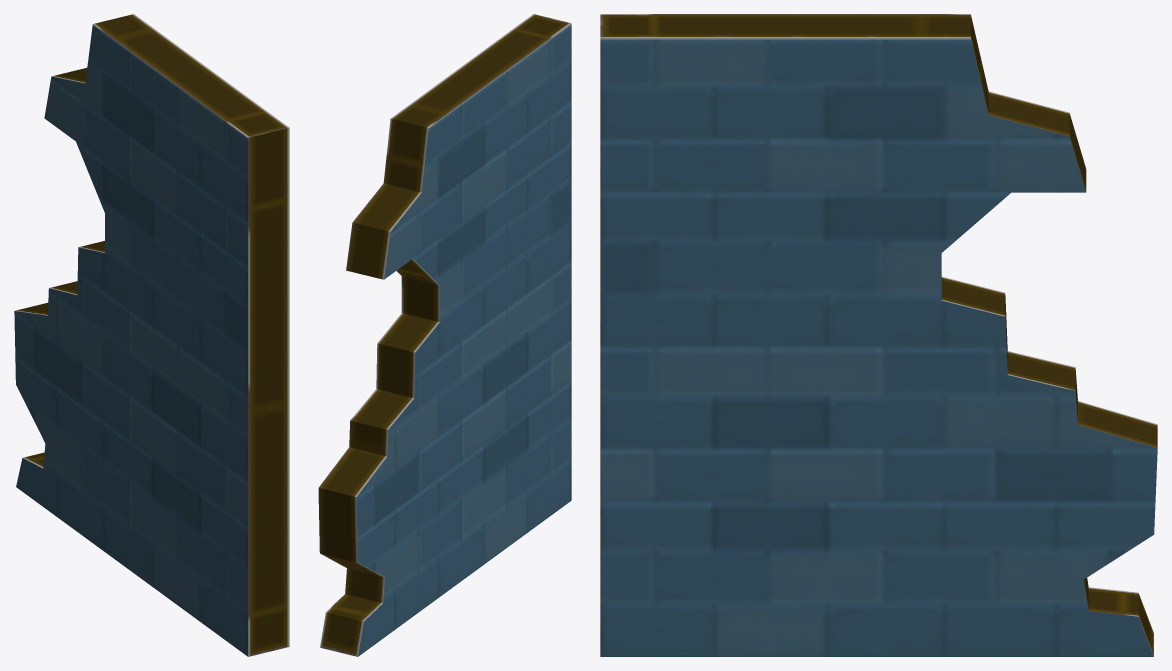
The model's file is Wall_Broken_R_14.fbx.
3 views of the same model, side by side, from view 1: azimuth 30°, elevation 25°; view 2: azimuth 150°, elevation 25°; view 3: azimuth 270°, elevation 25° (orthographic). The views are drawn at different scales.
Visible parts, largest first — view 1: Wall_Broken_R_14; view 2: Wall_Broken_R_14; view 3: Wall_Broken_R_14.
Boxes of the visible parts, bbox=[...] form: Wall_Broken_R_14: bbox=[14, 14, 289, 656]; Wall_Broken_R_14: bbox=[318, 14, 571, 656]; Wall_Broken_R_14: bbox=[600, 14, 1157, 656].
Size of the model in its own units: 50 by 600 by 490.
